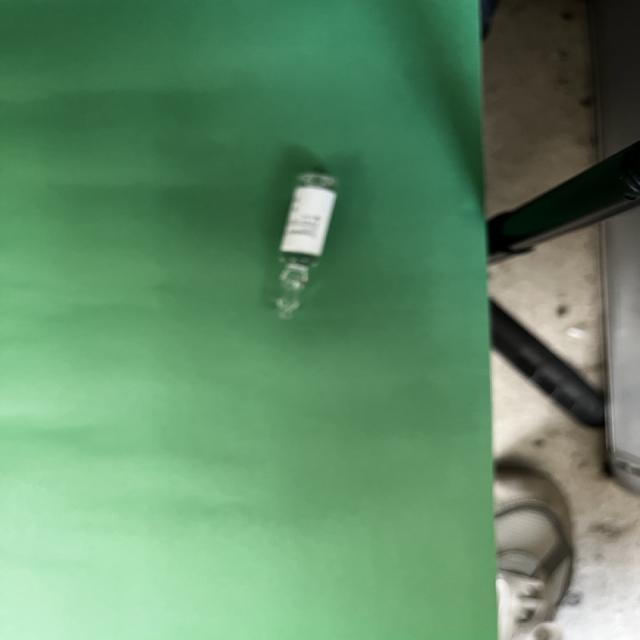Ampoules: (276, 171, 338, 318)
